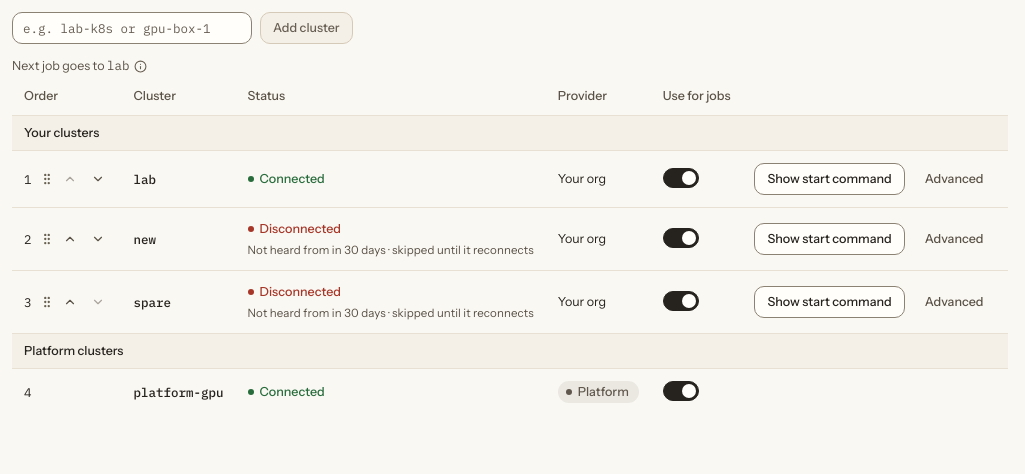
adding a cluster › keeps a name the API refuses in the field, with the refusal beside it
Type "Lab K8s" into the field named "Cluster name" at [132, 28], box [12,12,252,44]
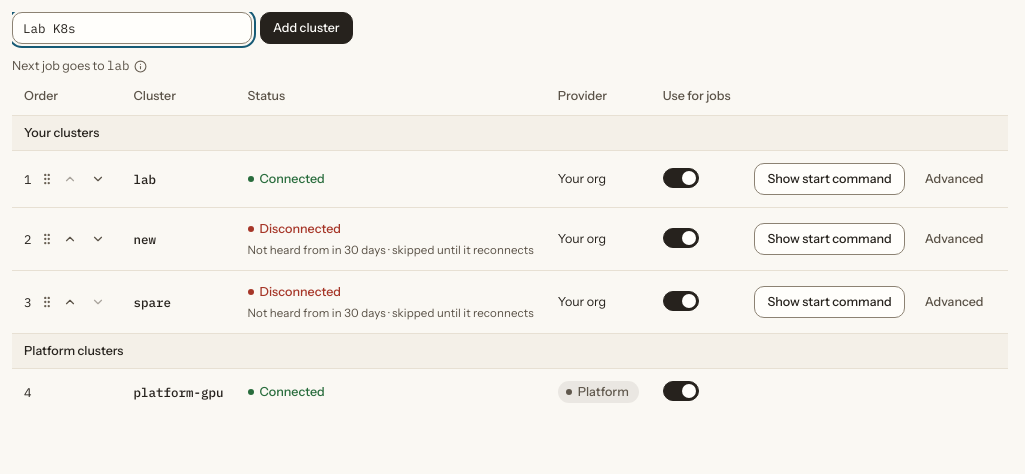
Click the button "Add cluster" at [306, 28], box [260,12,353,44]
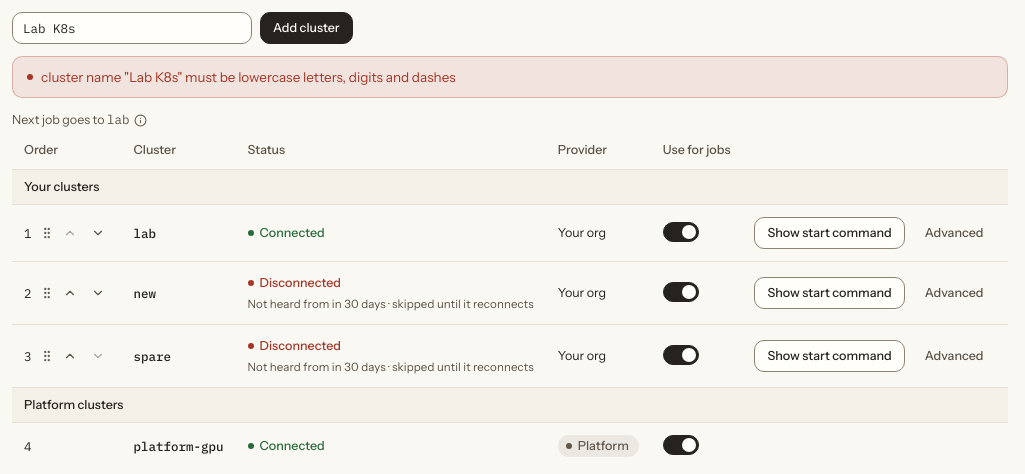
Check: the text "must be lowercase letters, digits and dashes" is shown, box [41,69,456,85]
